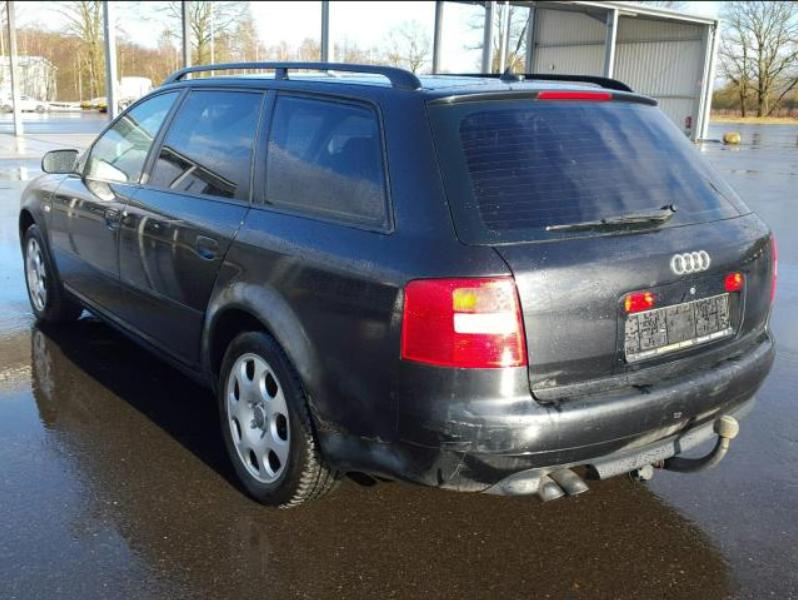Back-bumper: (392, 308, 775, 495)
Back-door: (118, 87, 268, 373), (150, 90, 262, 203)
Back-wheel: (218, 331, 347, 509)
Back-window: (266, 95, 380, 219), (149, 90, 262, 202)
Back-windshield: (459, 106, 742, 230)
Fender: (19, 173, 74, 302)
Front-door: (49, 88, 189, 323)
Front-wheel: (24, 224, 83, 325)
Front-window: (84, 92, 182, 184)
License-plate: (626, 294, 731, 360)
Mirror: (41, 149, 86, 176)
Quarter-panel: (198, 206, 511, 476)
Rocker-panel: (64, 289, 208, 390)
Roof: (167, 62, 630, 93)
Tail-light: (399, 276, 527, 369), (769, 235, 780, 309)
Trunk: (425, 88, 773, 403)
